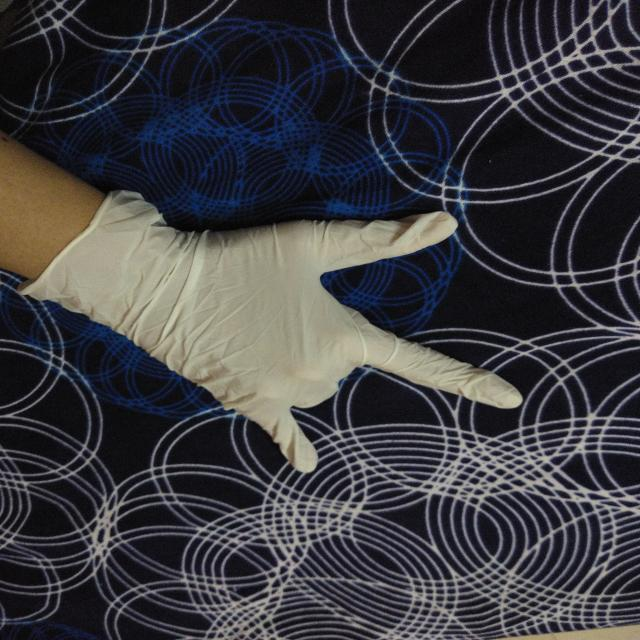gloved_hand: (22, 183, 527, 482)
